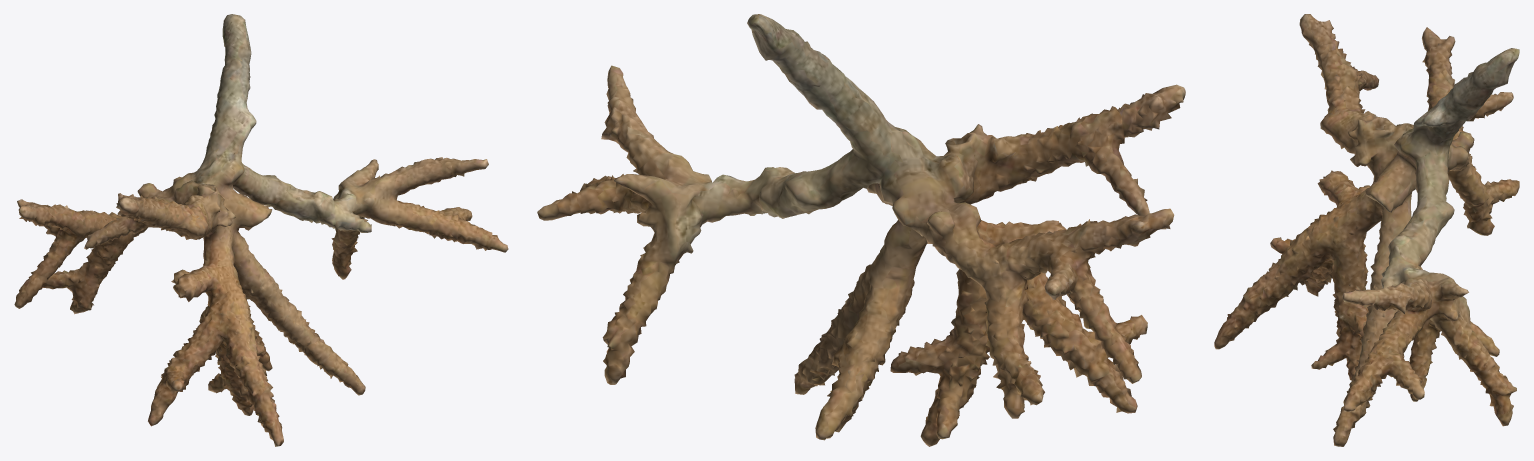
The model's file is staghorn.glb.
3 views of the same model, side by side, from view 1: azimuth 30°, elevation 25°; view 2: azimuth 150°, elevation 25°; view 3: azimuth 270°, elevation 25° (orthographic). The views are drawn at different scales.
Bounding box in the file's own units: 0.2155 × 0.1541 × 0.1134.
1 material, 1 textured.
